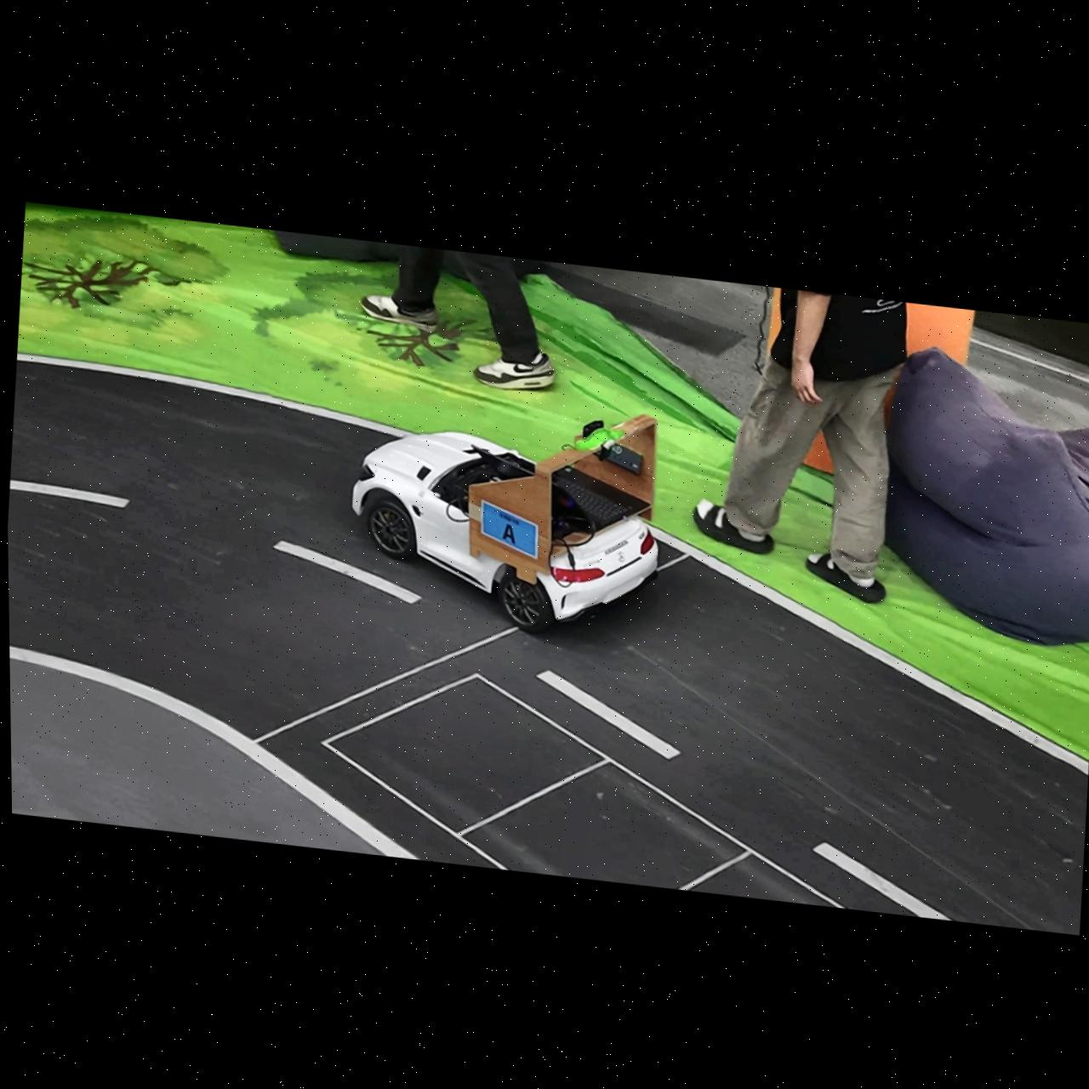broken_line: (536, 670, 681, 760), (813, 843, 952, 920), (273, 540, 422, 604), (10, 480, 130, 508)
